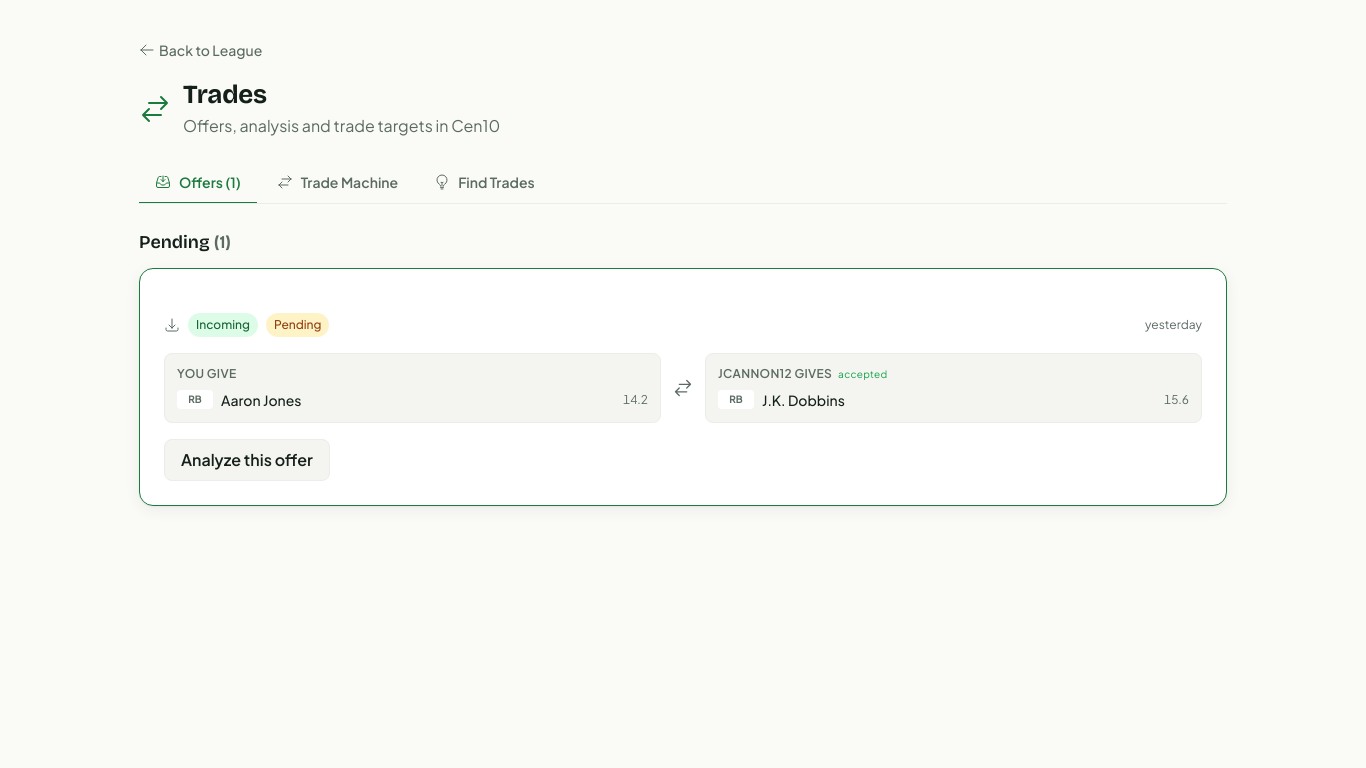
Test: Trade machine › lets you pick players by name rather than by platform id
The image size is (1366, 768).
Click the tab "Trade Machine" at (337, 183), box top-left (261, 162), bottom-right (414, 204)
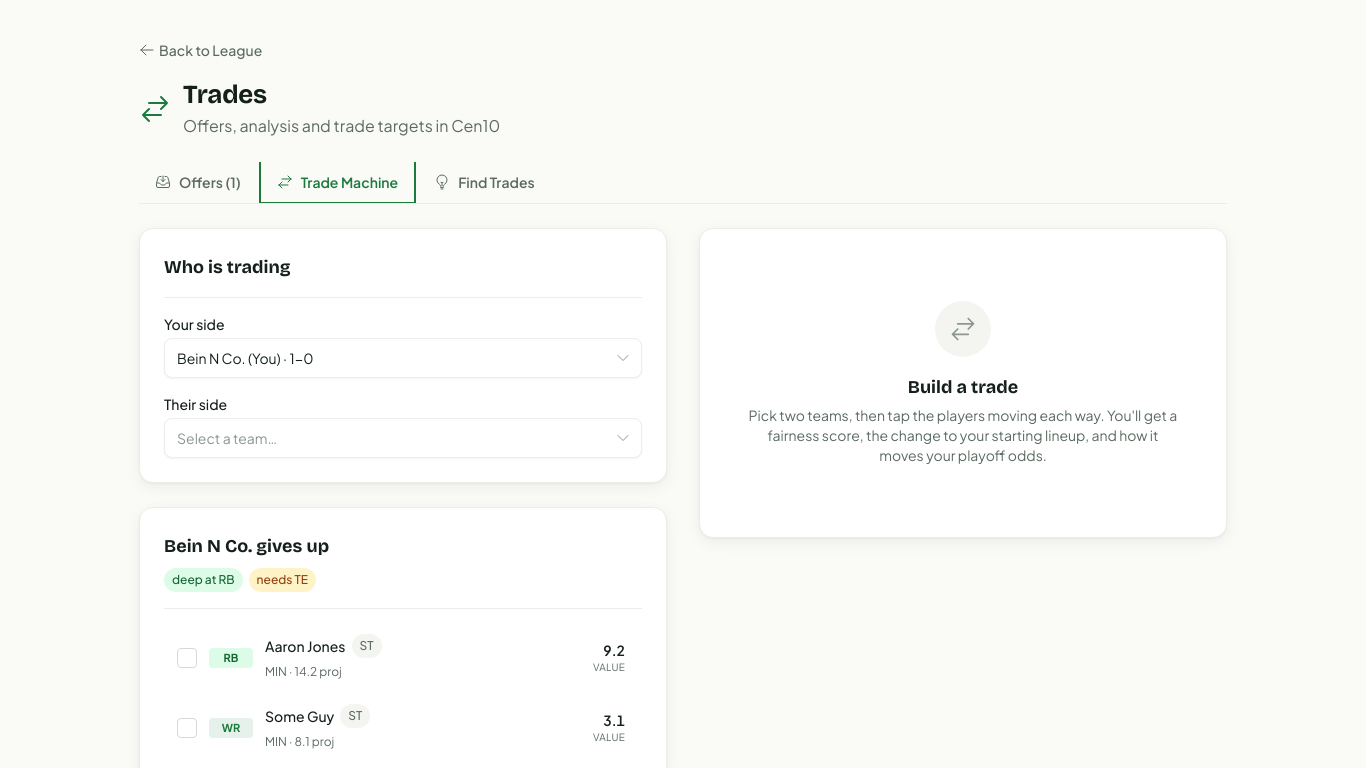
Now the option "RB Aaron Jones ST MIN · 14.2 proj 9.2 value" is shown, box top-left (164, 625), bottom-right (638, 691)
